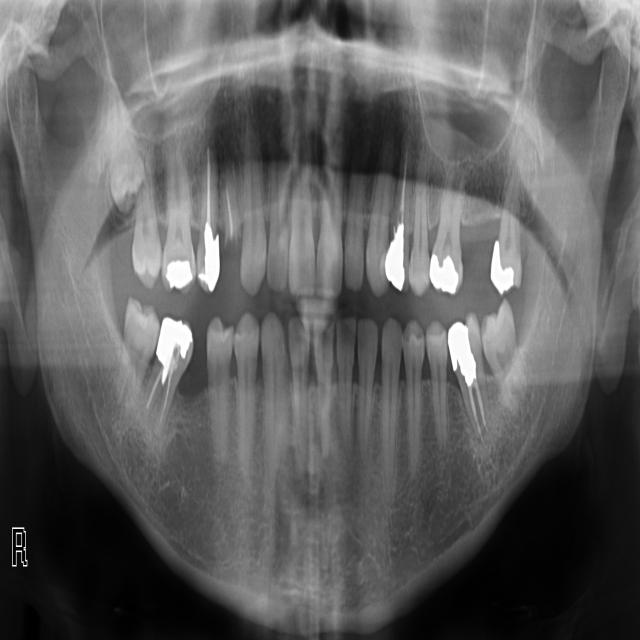tooth: (147, 317, 192, 431), (162, 140, 195, 290), (261, 314, 289, 480), (480, 301, 524, 405), (117, 298, 158, 402), (447, 320, 483, 434), (233, 315, 259, 471), (129, 162, 161, 283), (206, 318, 233, 456), (287, 316, 311, 461), (380, 320, 402, 478), (240, 160, 266, 292), (403, 319, 425, 475), (316, 173, 343, 296), (430, 192, 461, 293), (312, 320, 335, 456), (288, 174, 314, 293), (364, 177, 389, 294), (266, 169, 290, 289), (425, 321, 448, 440), (335, 319, 356, 447), (356, 317, 377, 443), (344, 175, 366, 290), (491, 211, 521, 293), (385, 184, 407, 291), (409, 190, 430, 293), (204, 150, 219, 291)
